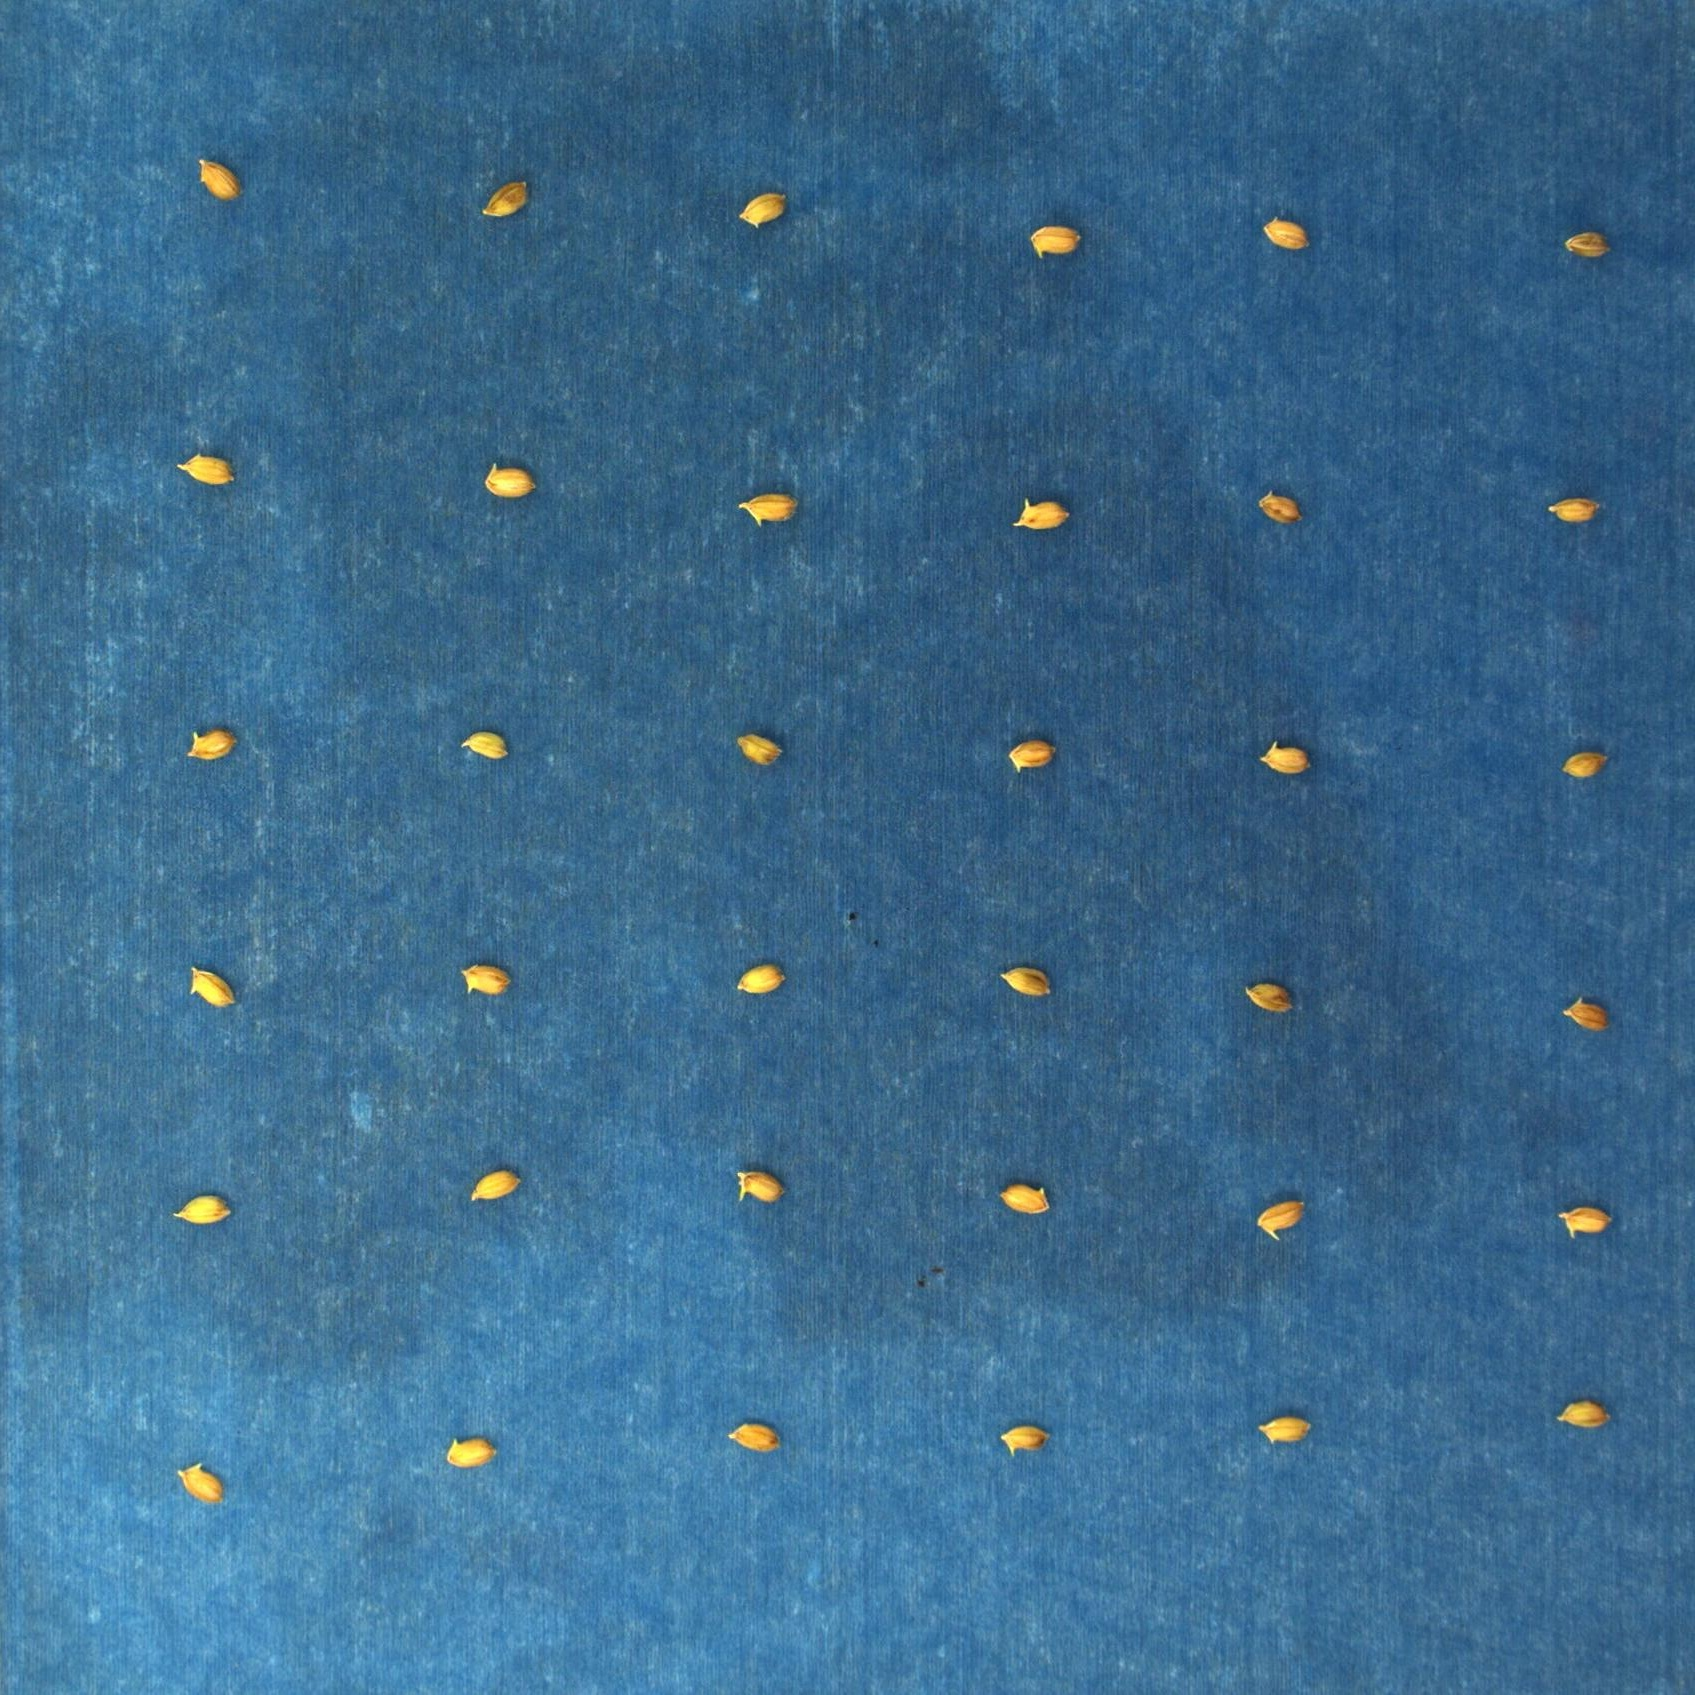not sprout: (171, 1189, 237, 1231), (483, 175, 546, 219), (1541, 483, 1600, 529), (736, 185, 795, 230), (1558, 1198, 1617, 1243), (171, 1458, 224, 1504), (1000, 736, 1060, 776), (196, 152, 239, 208), (175, 455, 237, 494), (1245, 976, 1301, 1018), (730, 1419, 793, 1454), (1256, 213, 1316, 250), (1000, 964, 1060, 1001), (1260, 733, 1310, 778), (1257, 1198, 1310, 1240), (438, 1434, 497, 1471), (1257, 1409, 1316, 1447), (467, 1167, 525, 1205), (1557, 998, 1610, 1038), (1006, 498, 1068, 532), (480, 463, 536, 500), (459, 723, 512, 762), (1558, 744, 1613, 781), (456, 962, 511, 1000), (998, 1180, 1055, 1214), (191, 964, 236, 1007), (733, 961, 787, 997), (740, 490, 796, 525), (736, 1166, 789, 1201), (1555, 1399, 1613, 1431), (185, 725, 234, 762), (1000, 1425, 1052, 1458), (1035, 220, 1080, 258), (736, 733, 781, 770), (1260, 483, 1301, 523), (1562, 231, 1603, 255)
